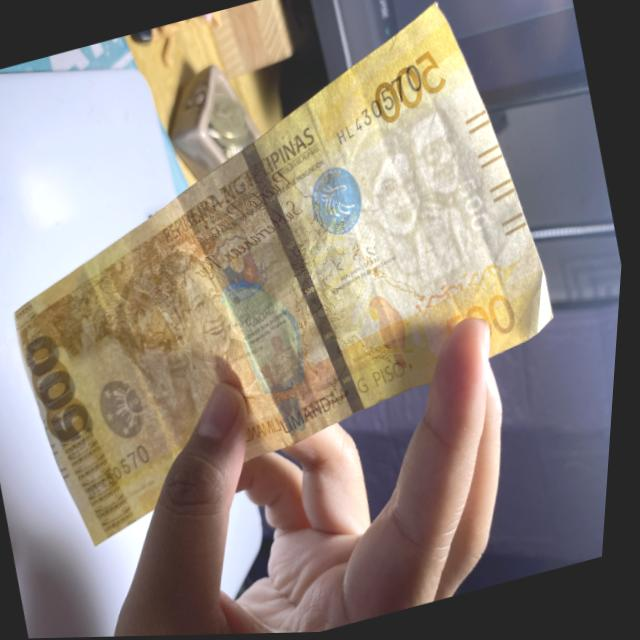500_big_parrot: (204, 253, 335, 455)
500_parrot_watermark: (360, 287, 424, 379)
value_watermark: (450, 169, 495, 237)
watermark: (343, 109, 499, 291)
